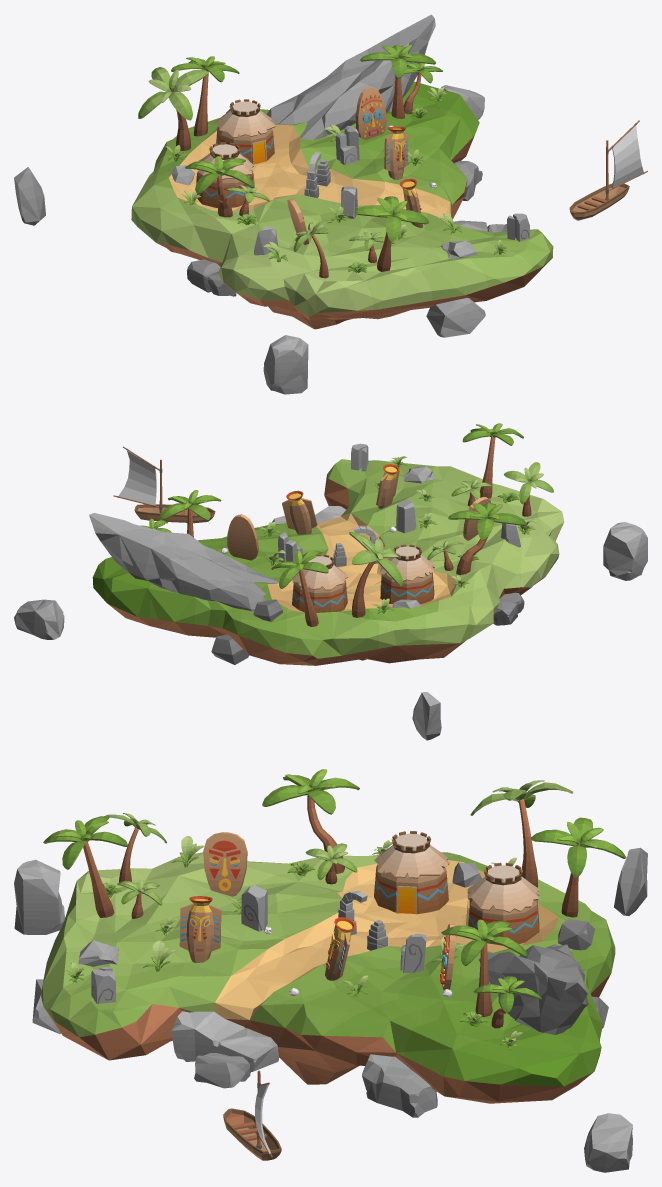
File: field_03.glb
The picture shows the model from 3 angles, top to bottom: view 1: azimuth 30°, elevation 25°; view 2: azimuth 150°, elevation 25°; view 3: azimuth 270°, elevation 25°; orthographic projection. The views are drawn at different scales.
Visible parts, largest first — view 1: shamanic island_30, stone large 4_47, shamans house_21, sailboat 5_35, stone small 6_36, palm tree tilted 3_37, shamans house (1)_10, palm tree large 3 (1)_2, stone small 13_43, palm tree bent 3_23, palm tree large 3 (2)_33, wooden face 2_24 (+11 smaller); view 2: shamanic island_30, stone large 4_47, sailboat 5_35, shamans house (1)_10, shamans house_21, stone small 6_36, palm tree tilted 3_37, stone small 4_46, palm tree bent 3_23, palm tree large 3_44, wooden face 2_24, palm tree large 3 (1)_2 (+11 smaller); view 3: shamanic island_30, stone large 4_47, shamans house (1)_10, shamans house_21, stone small 5_11, stone small 6_36, stone small 8_1, palm tree large 3_44, palm tree bent 3_23, palm tree large 3 (1)_2, stone small 4_46, wooden face_40 (+20 smaller).
Part boxes in pixels (<box>): shamanic island_30: <box>131,81,553,329</box>; stone large 4_47: <box>266,14,435,139</box>; shamans house_21: <box>214,99,275,164</box>; sailboat 5_35: <box>569,120,647,220</box>; stone small 6_36: <box>263,335,308,394</box>; palm tree tilted 3_37: <box>138,67,208,150</box>; shamans house (1)_10: <box>196,142,254,207</box>; palm tree large 3 (1)_2: <box>354,196,429,271</box>; stone small 13_43: <box>426,298,485,337</box>; palm tree bent 3_23: <box>185,156,254,217</box>; palm tree large 3 (2)_33: <box>360,45,435,118</box>; wooden face 2_24: <box>355,87,386,139</box>; shamanic island_30: <box>92,459,564,665</box>; stone large 4_47: <box>89,513,278,611</box>; sailboat 5_35: <box>113,446,215,523</box>; shamans house (1)_10: <box>379,544,435,604</box>; shamans house_21: <box>292,554,348,612</box>; stone small 6_36: <box>603,522,647,580</box>; palm tree tilted 3_37: <box>349,532,402,617</box>; stone small 4_46: <box>14,599,64,639</box>; palm tree bent 3_23: <box>448,502,526,575</box>; palm tree large 3_44: <box>271,550,328,626</box>; wooden face 2_24: <box>227,514,258,560</box>; palm tree large 3 (1)_2: <box>462,423,523,498</box>; shamanic island_30: <box>41,852,615,1103</box>; stone large 4_47: <box>479,944,588,1034</box>; shamans house (1)_10: <box>374,831,449,914</box>; shamans house_21: <box>466,862,539,945</box>; stone small 5_11: <box>171,1011,278,1071</box>; stone small 6_36: <box>14,859,64,934</box>; stone small 8_1: <box>362,1054,437,1117</box>; palm tree large 3_44: <box>530,817,626,917</box>; palm tree bent 3_23: <box>262,769,359,873</box>; palm tree large 3 (1)_2: <box>43,816,127,917</box>; stone small 4_46: <box>584,1113,632,1172</box>; wooden face_40: <box>203,832,247,896</box>.
Bounding box in the file's own units: 18.81 × 6.46 × 16.71.
Materials: 1 (1 with a texture image).
